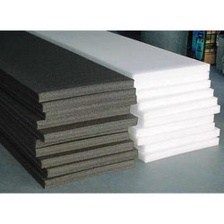foam_box: (27, 30, 224, 166), (0, 30, 142, 190)
